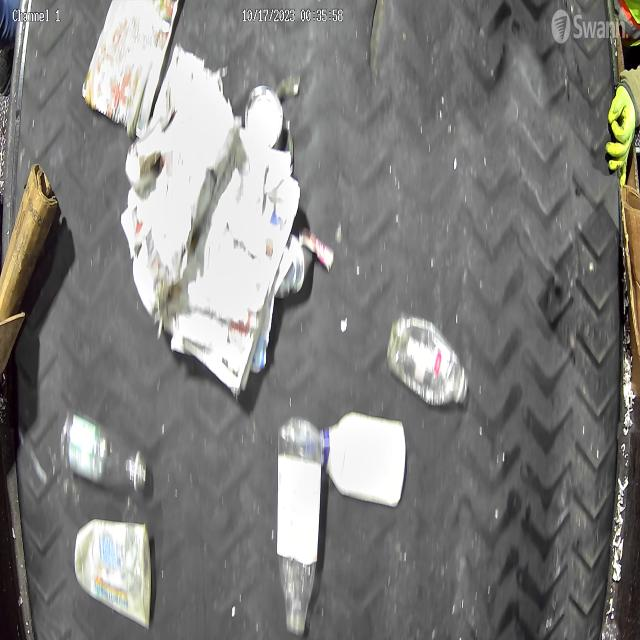can: (270, 232, 308, 300), (246, 86, 284, 150)
plastic_bottle: (386, 314, 470, 411), (62, 407, 146, 491)
